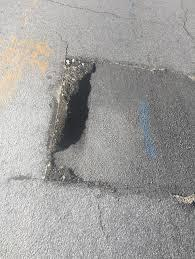crack: (65, 4, 122, 21), (178, 1, 195, 39), (56, 29, 72, 56)
pothole: (45, 55, 140, 191)
